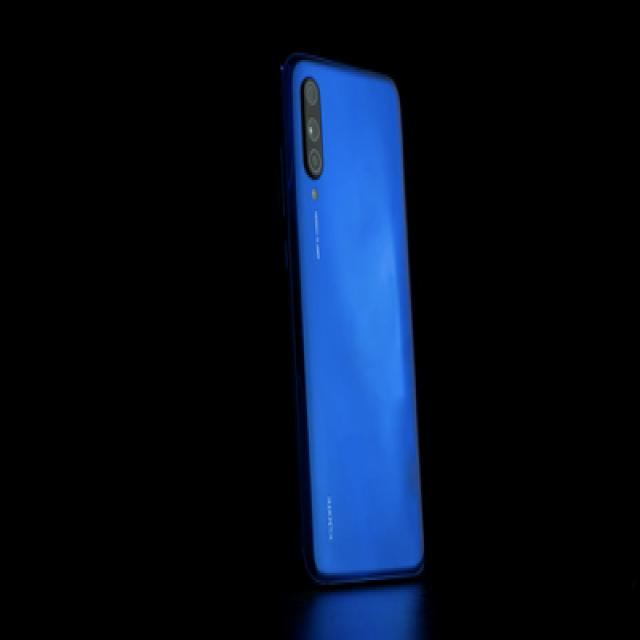cellphone: (280, 50, 424, 585)
